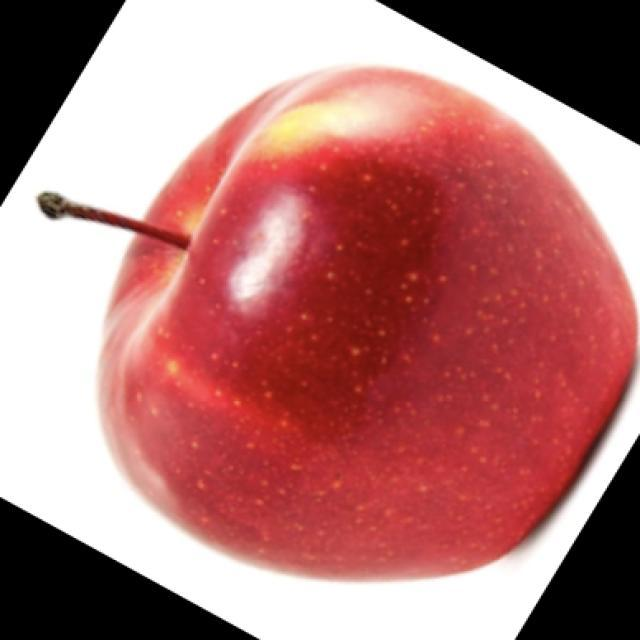Apple: (36, 63, 639, 582)
